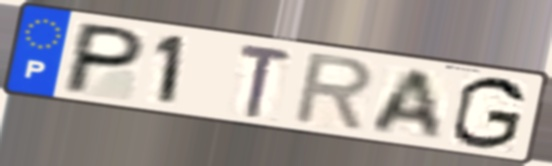1: (149, 33, 190, 107)
A: (366, 66, 446, 142)
G: (448, 74, 529, 152)
P: (57, 19, 151, 97)
R: (287, 50, 378, 136)
T: (235, 41, 296, 122)
